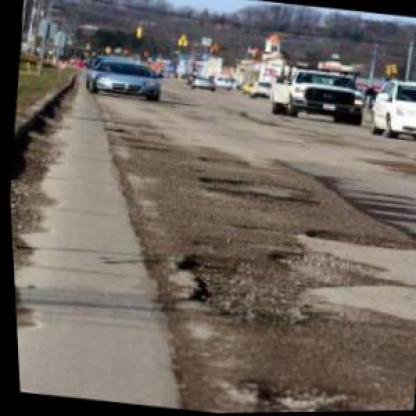pothole: (162, 248, 309, 336), (262, 248, 369, 293), (236, 374, 355, 412), (292, 223, 414, 258), (195, 183, 319, 216), (194, 172, 309, 194), (192, 155, 250, 171)
